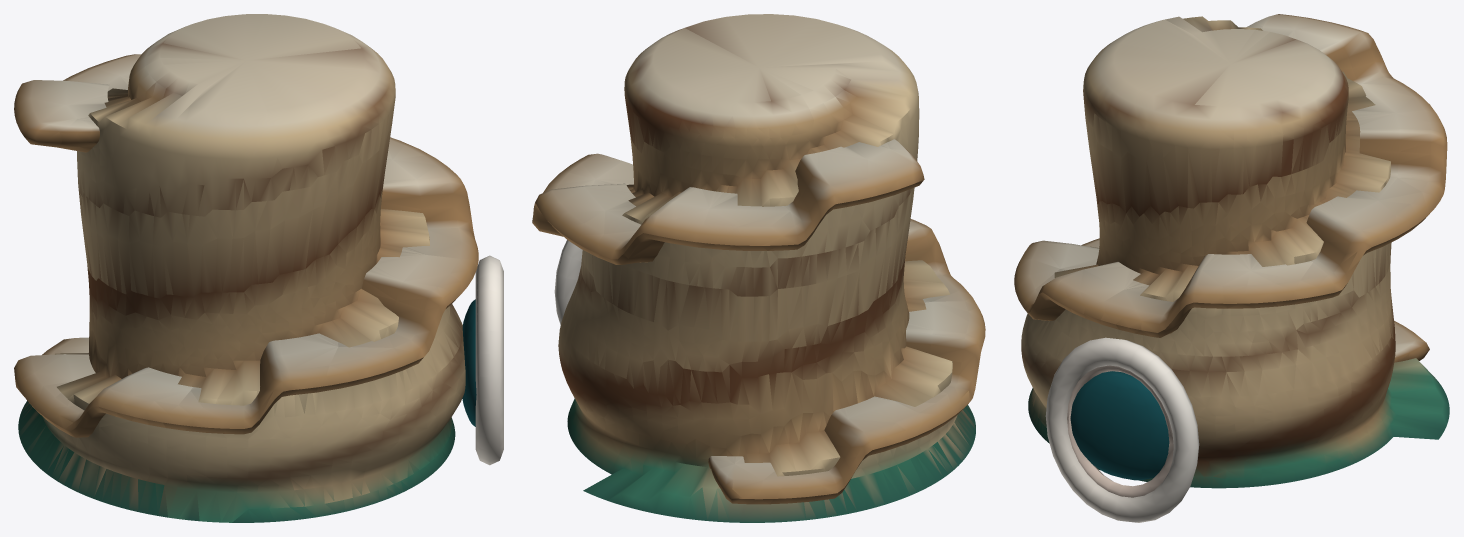
Rendered from grotto_snail_shell_lod1.glb.
3 views of the same model, side by side, from view 1: azimuth 30°, elevation 25°; view 2: azimuth 150°, elevation 25°; view 3: azimuth 270°, elevation 25° (orthographic). The views are drawn at different scales.
Visible parts, largest first — view 1: grotto_snail_shell.001; view 2: grotto_snail_shell.001; view 3: grotto_snail_shell.001.
Part boxes in pixels (left/top/right/bottom): grotto_snail_shell.001: left=14, top=14, right=503, bottom=522; grotto_snail_shell.001: left=532, top=14, right=985, bottom=522; grotto_snail_shell.001: left=1014, top=14, right=1449, bottom=522.
Bounding box in the file's own units: 17.63 × 15.7 × 16.49.
